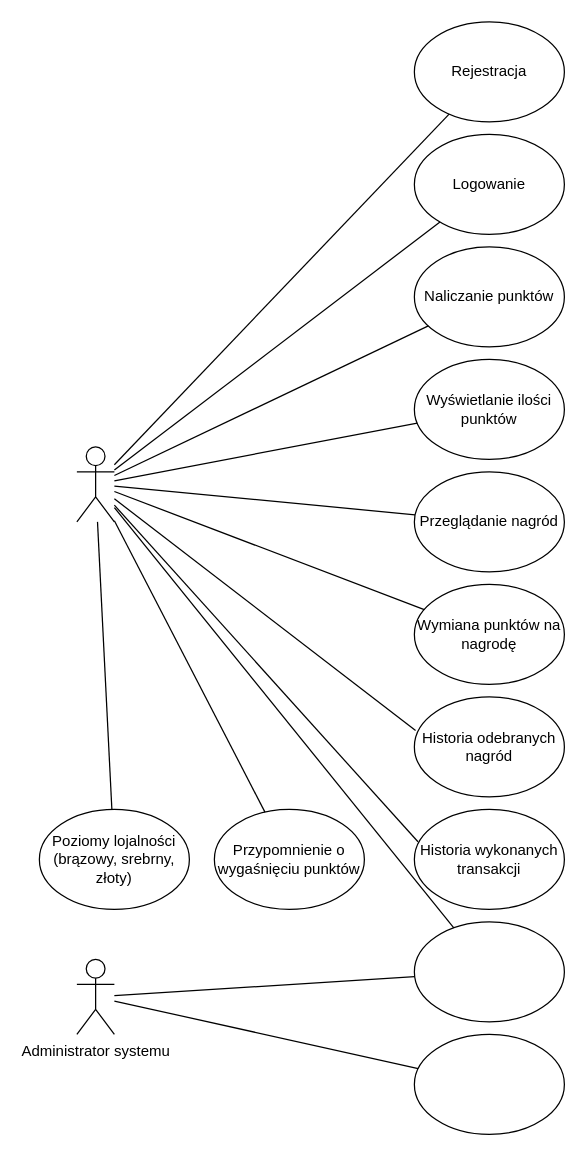
This 586x1156 diagram has some shape labels left out. The shapes that lost their labels are listed below. From the top down, each one's box as (x1, y1, x2, y2) in pixels, then its label:
(76, 446, 114, 522): Klient
(413, 921, 564, 1022): Zarządzanie kontem
(413, 1033, 564, 1134): Dodawanie akcji promocyjnych i ofert specjalnych
